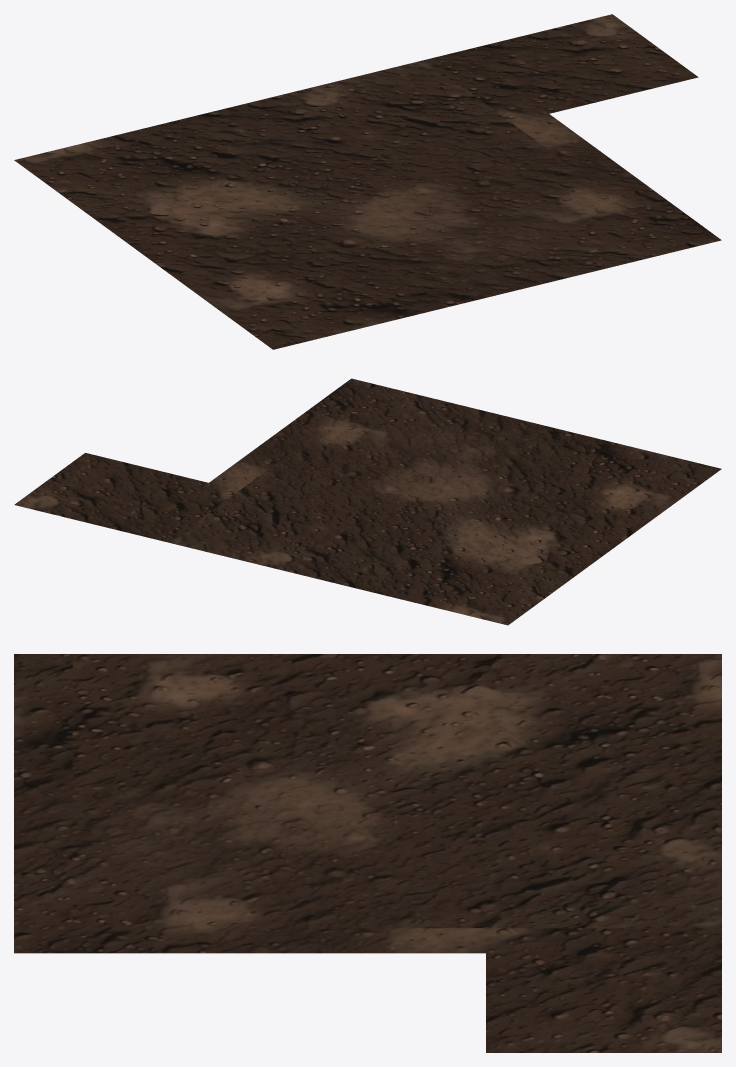
File: floor_0_0.glb
3 views of the same model, one above another, from view 1: azimuth 30°, elevation 25°; view 2: azimuth 150°, elevation 25°; view 3: azimuth 270°, elevation 25° (orthographic). The views are drawn at different scales.
Visible parts, largest first — view 1: floor_0_0; view 2: floor_0_0; view 3: floor_0_0.
Part boxes in pixels (x1=…): floor_0_0: x1=14, y1=14, x2=721, y2=349; floor_0_0: x1=14, y1=378, x2=721, y2=625; floor_0_0: x1=14, y1=654, x2=721, y2=1052.
Size of the model in its own units: 16 by 0 by 12.
Materials: 1 (1 with a texture image).
